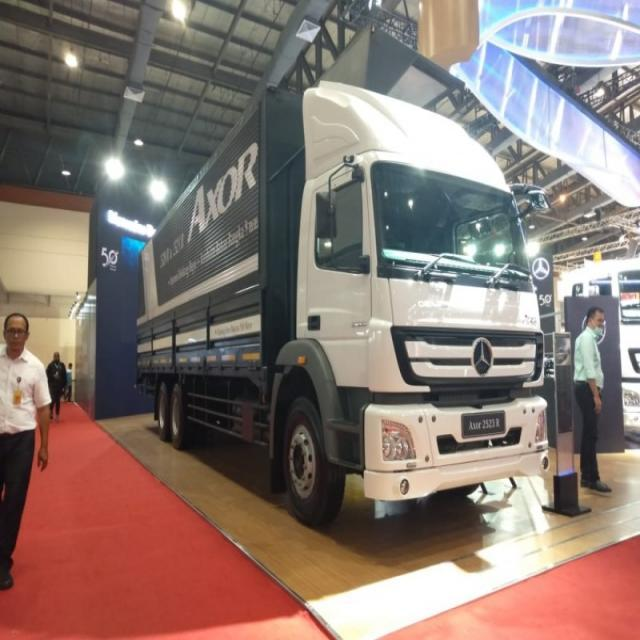bicycle: (133, 61, 549, 506)
